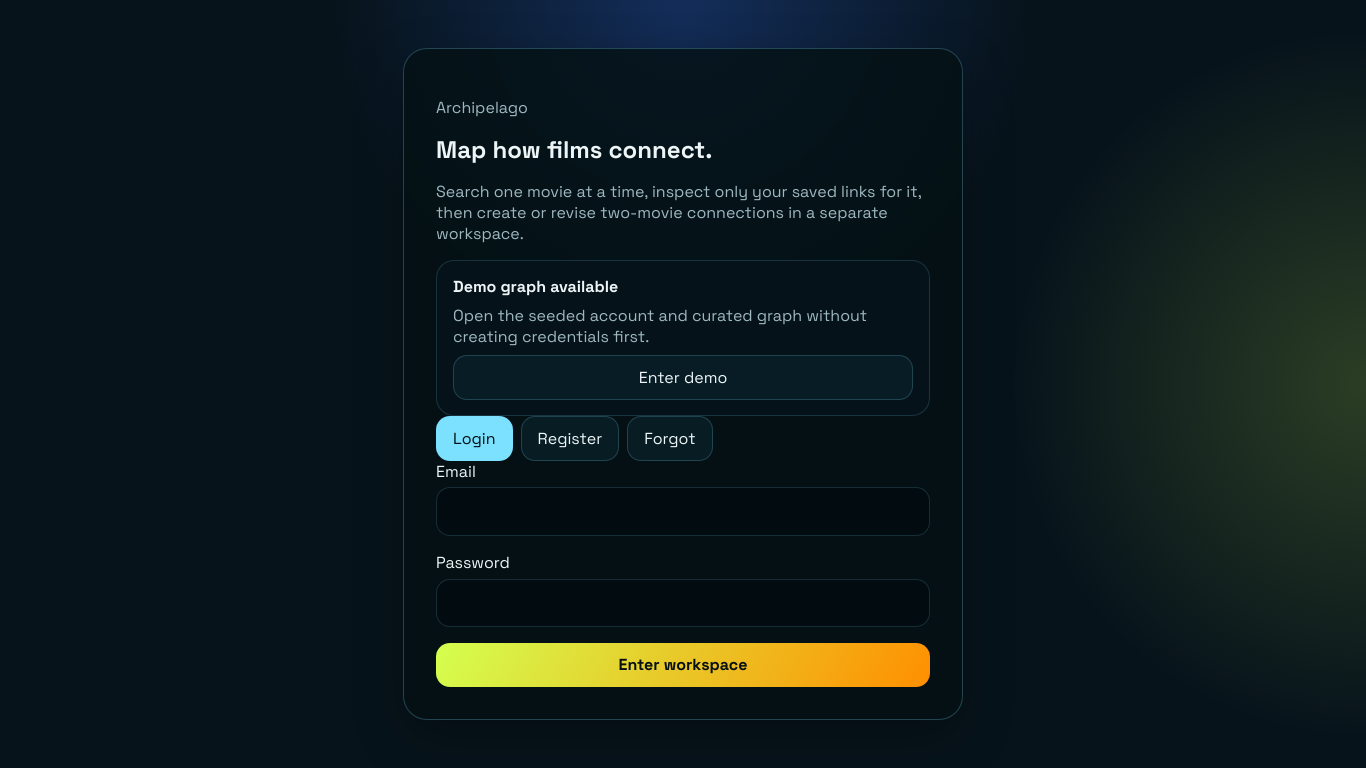
Scenario: App › shows forgot-password field errors inline
This screenshot has width=1366, height=768.
Check: the heading "Map how films connect." is shown, box [436,134,712,165]
Click the button "Forgot". click: x=670, y=438
box: [627,416,713,461]
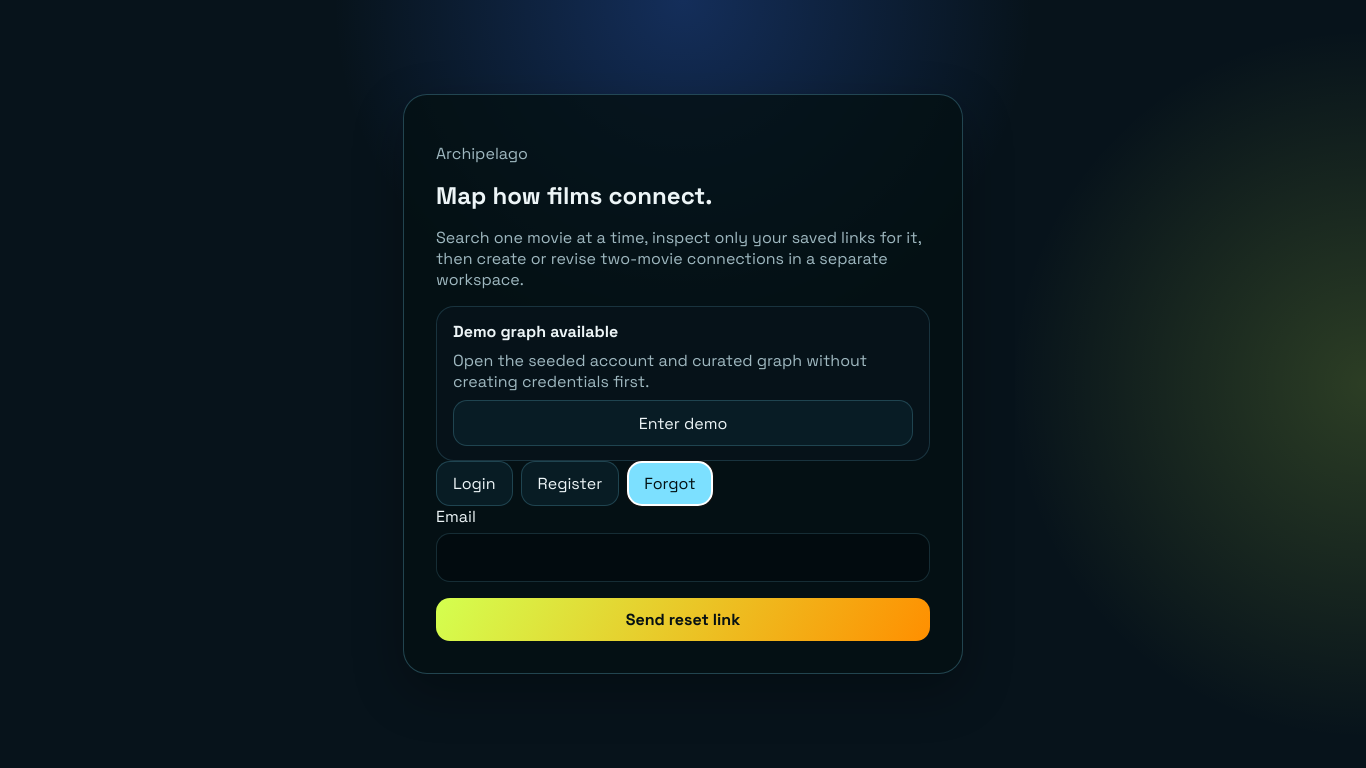
Type "missing@example.com" into the field labelled "Email". click: x=683, y=557
box: [436,533,930,582]
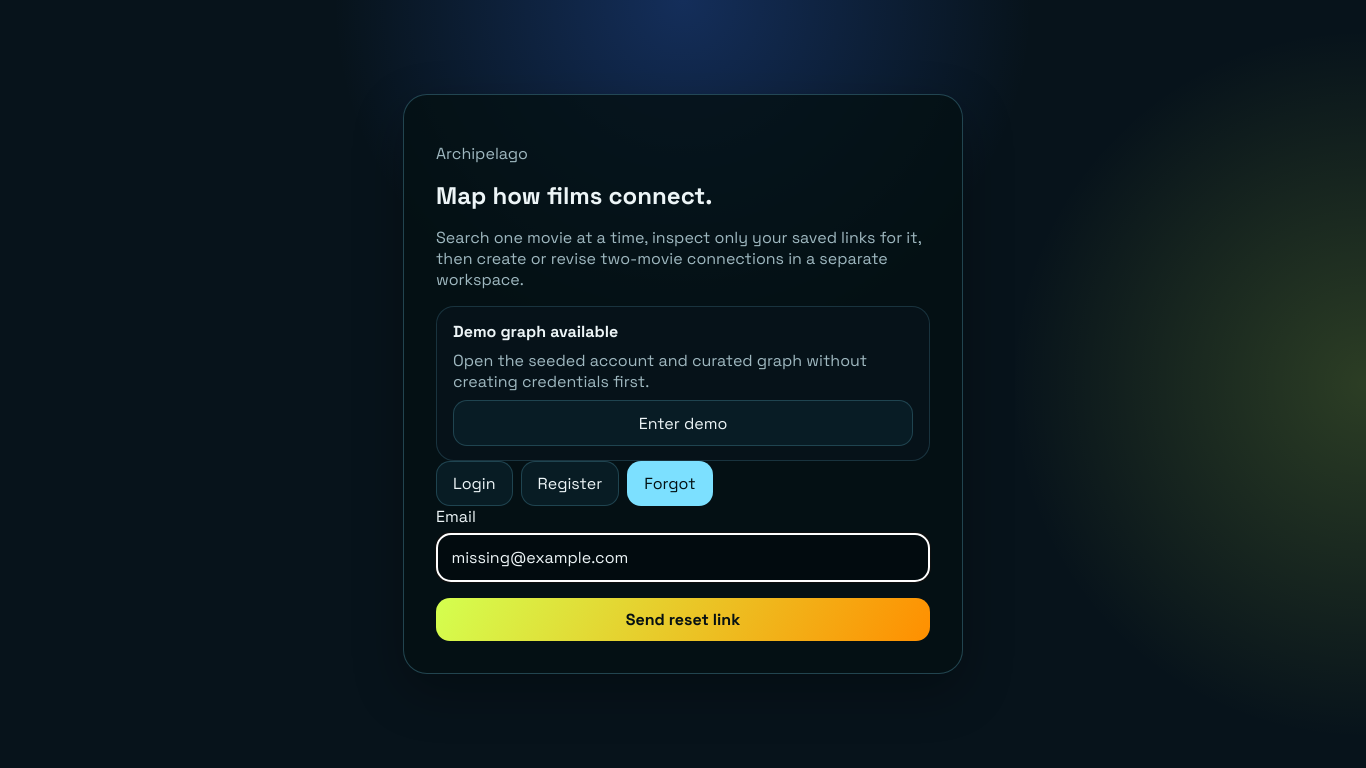
Click the button "Send reset link". click: x=683, y=619
box: [436,598,930,641]
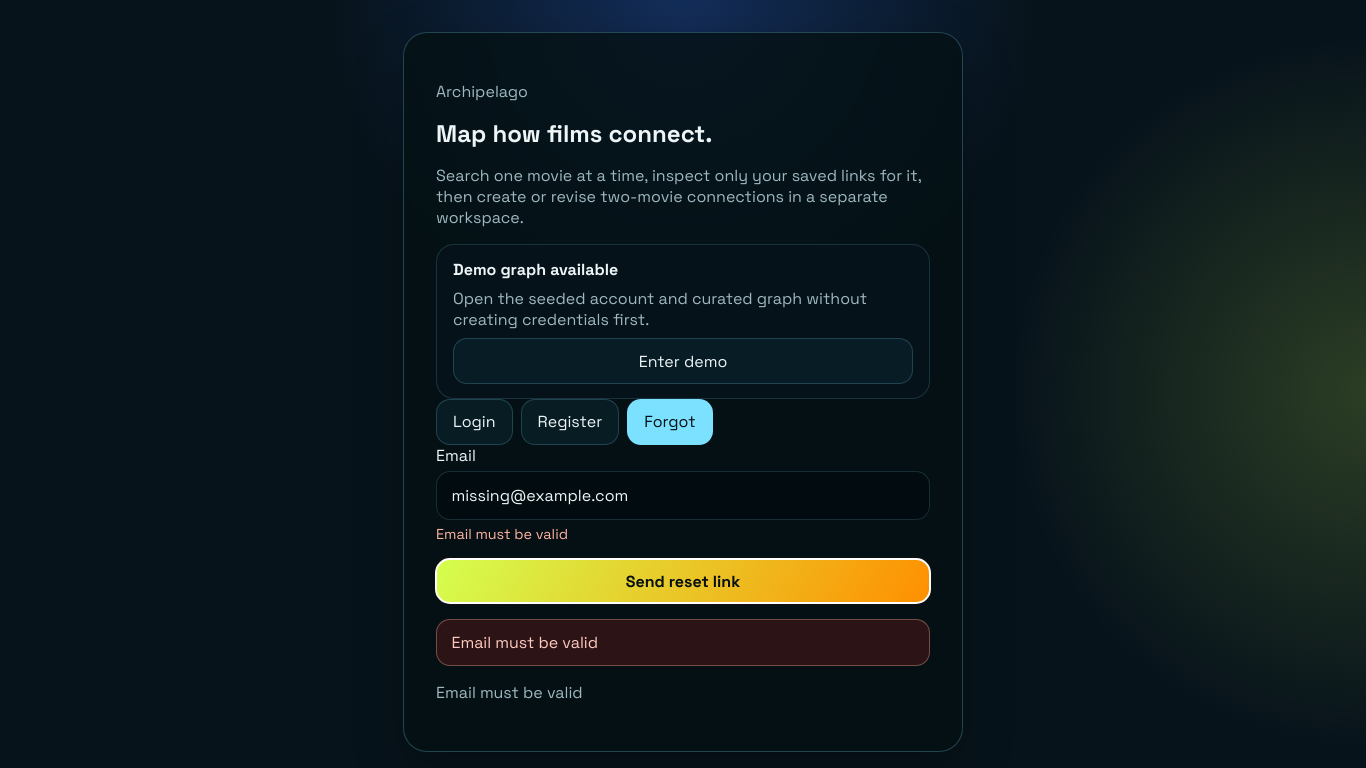
Check: the 1st text "Email must be valid" is shown, box [436,525,568,543]
